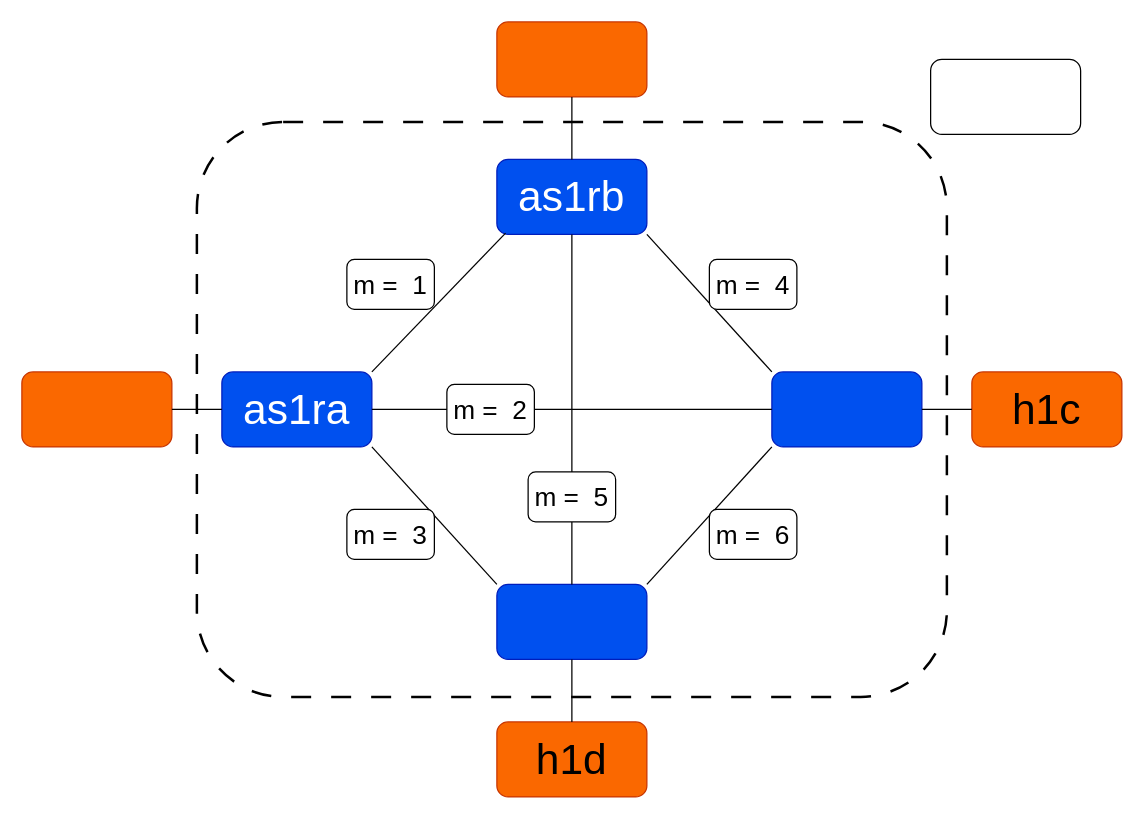
Image size: 1144x819. Some labels were removed from this diagram. The centre of each missing label's shape, as x and y in pixels:
"AS1" goes at pixel 1005 96.
"as1rc" goes at pixel 846 409.
"as1rd" goes at pixel 571 621.
"h1a" goes at pixel 96 409.
"h1b" goes at pixel 571 59.
